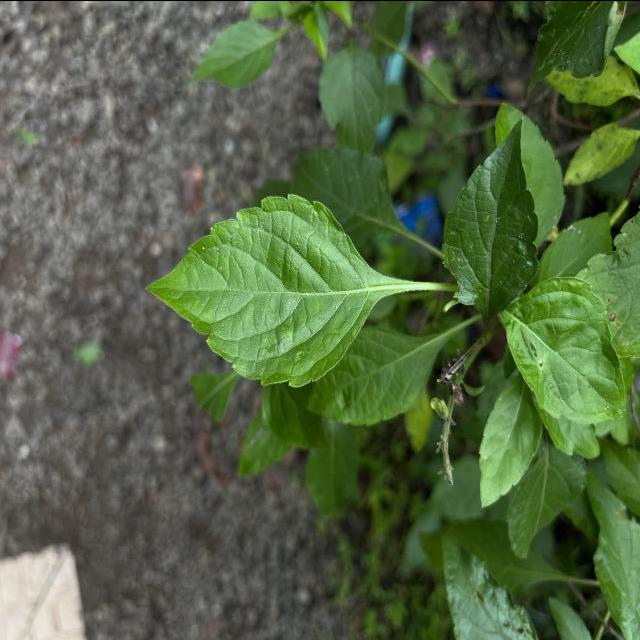Ocimum gratissimum: (143, 188, 401, 390), (440, 114, 542, 325)
